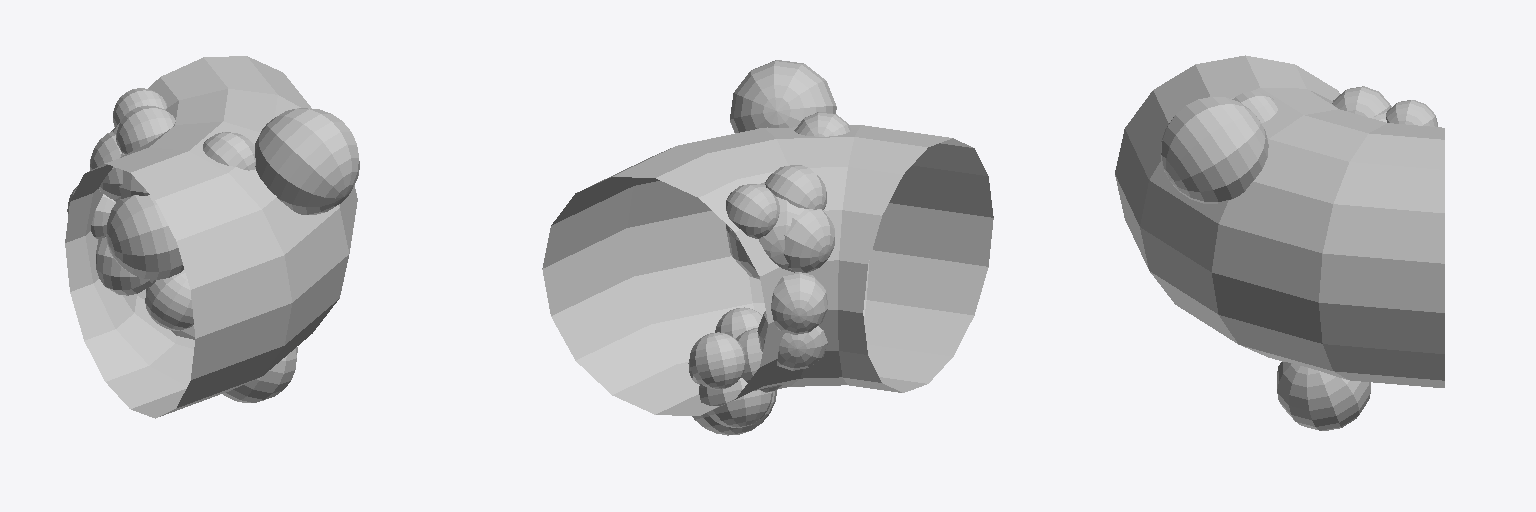
3 views of the same model, side by side, from view 1: azimuth 30°, elevation 25°; view 2: azimuth 150°, elevation 25°; view 3: azimuth 270°, elevation 25° (orthographic).
Visible parts, largest first — view 1: sCurve_C; view 2: sCurve_C; view 3: sCurve_C.
Part boxes in pixels (left/top/right/bottom): sCurve_C: left=65, top=56, right=359, bottom=418; sCurve_C: left=542, top=60, right=993, bottom=435; sCurve_C: left=1115, top=55, right=1444, bottom=430.
Bounding box in the file's own units: 104 × 113 × 104.